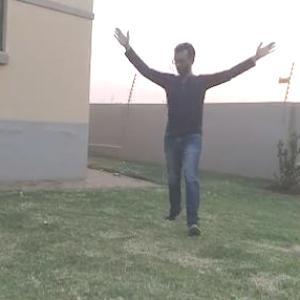takeoff: (111, 4, 296, 241)
